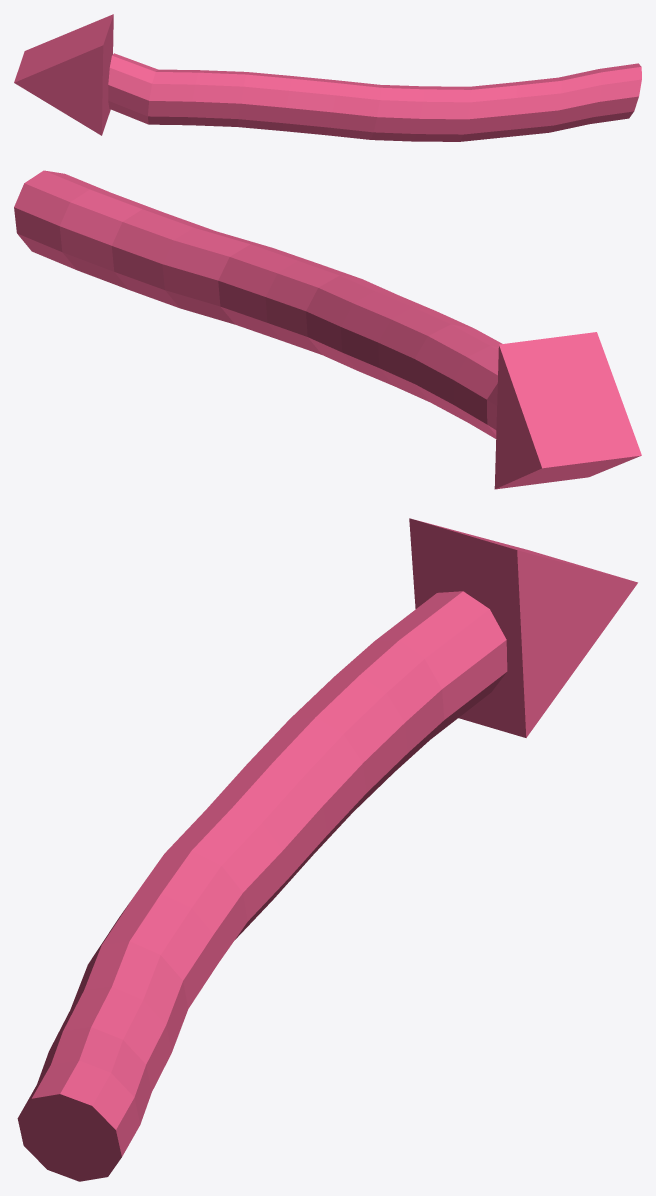
Rendered from BlockModelOne.fbx.
3 renders of one model, top to bottom at view 1: azimuth 30°, elevation 25°; view 2: azimuth 150°, elevation 25°; view 3: azimuth 270°, elevation 25°, orthographic. The views are drawn at different scales.
Visible parts, largest first — view 1: group_777381213, group_1266496269; view 2: group_777381213, group_1266496269; view 3: group_777381213, group_1266496269.
Boxes of the visible parts, x1=… form: group_777381213: x1=108, y1=53, x2=641, y2=141; group_1266496269: x1=14, y1=14, x2=113, y2=135; group_777381213: x1=14, y1=170, x2=502, y2=438; group_1266496269: x1=494, y1=332, x2=641, y2=489; group_777381213: x1=17, y1=591, x2=507, y2=1181; group_1266496269: x1=409, y1=518, x2=637, y2=737.
Size of the model in its own units: 94.67 by 21.32 by 49.29.
